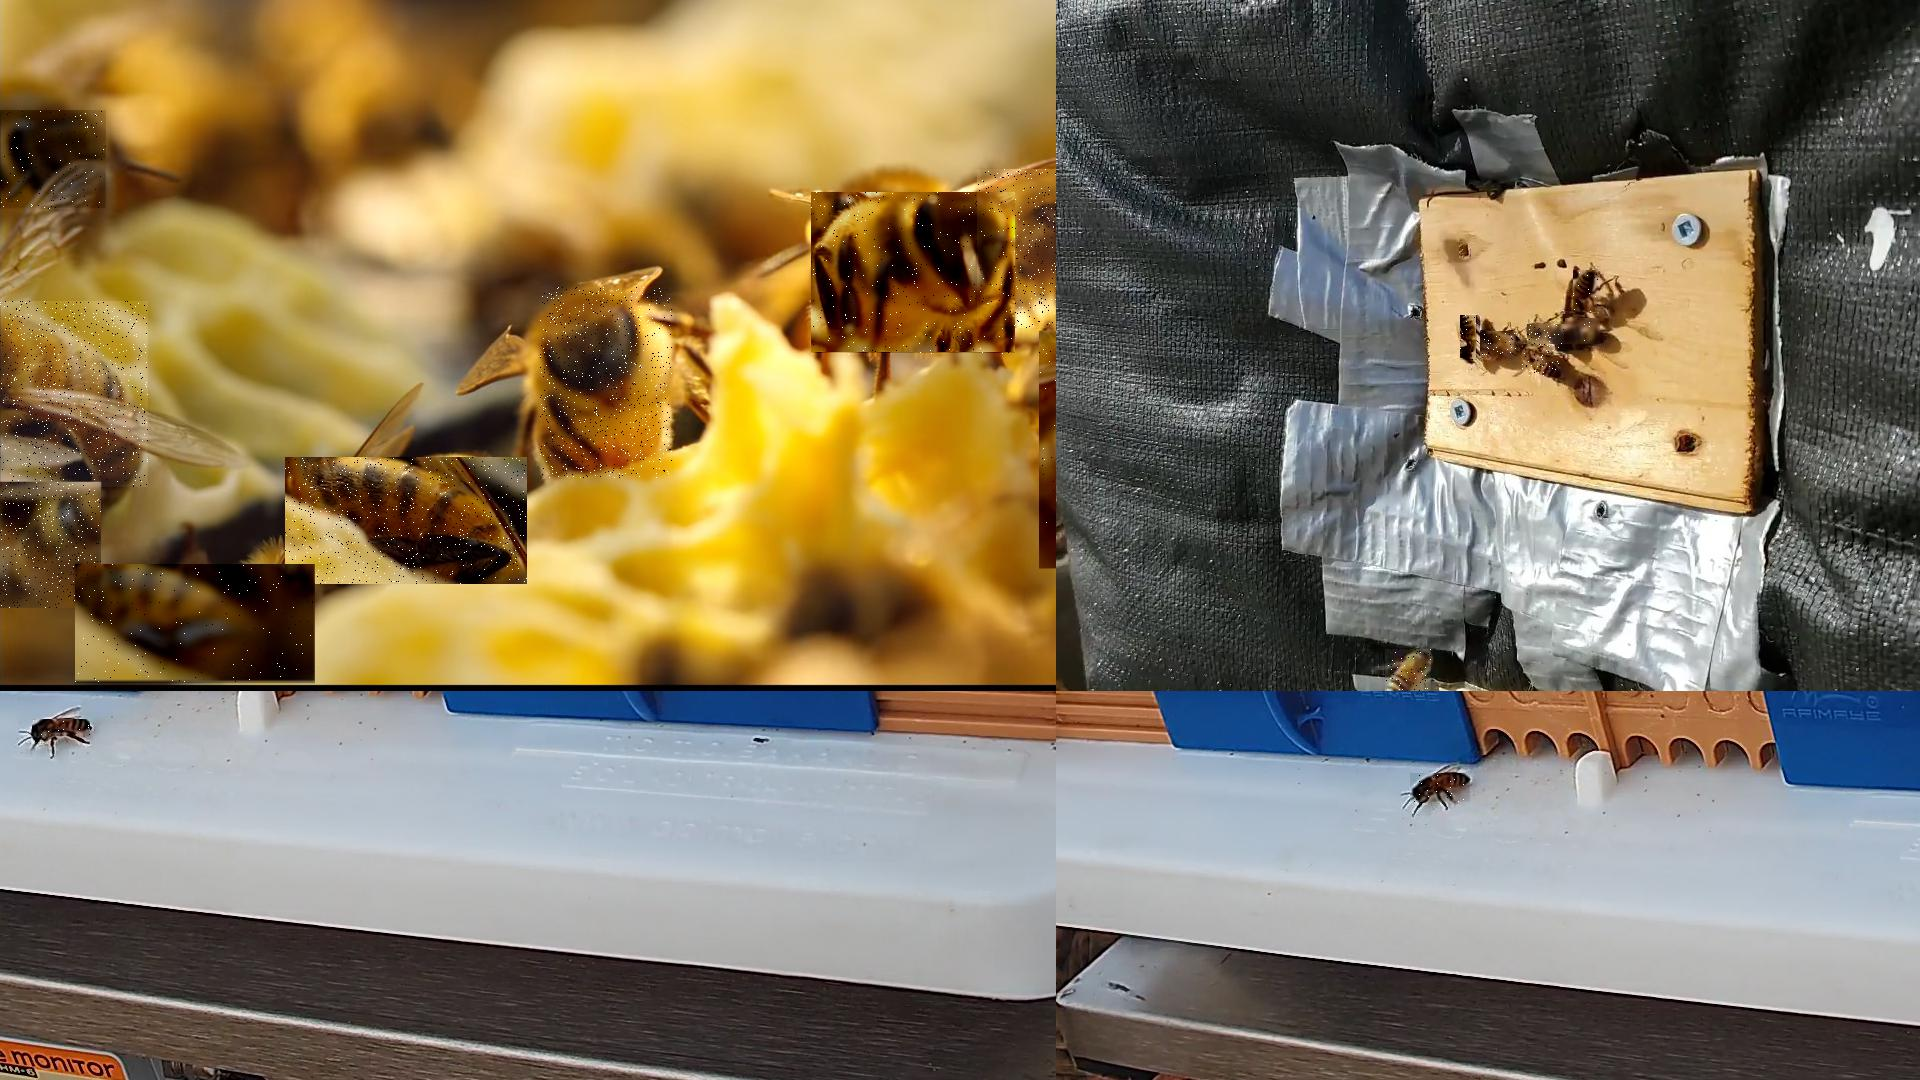bee: (811, 193, 1015, 357), (285, 458, 527, 585), (75, 564, 316, 686), (0, 301, 150, 489), (541, 287, 673, 479), (0, 483, 103, 611), (977, 169, 1055, 330), (0, 109, 108, 212), (1385, 649, 1433, 690), (1410, 773, 1472, 803), (1522, 344, 1560, 377), (1575, 270, 1601, 314), (1567, 318, 1604, 345), (33, 720, 91, 737), (1481, 332, 1519, 357), (1461, 316, 1481, 364), (1528, 324, 1567, 345)
